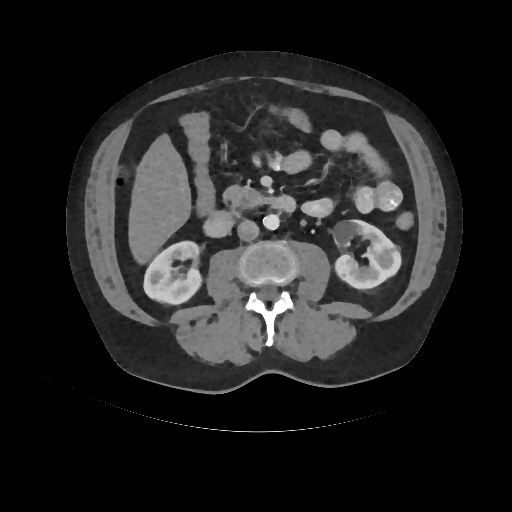Lesion: (330, 215, 366, 246)
